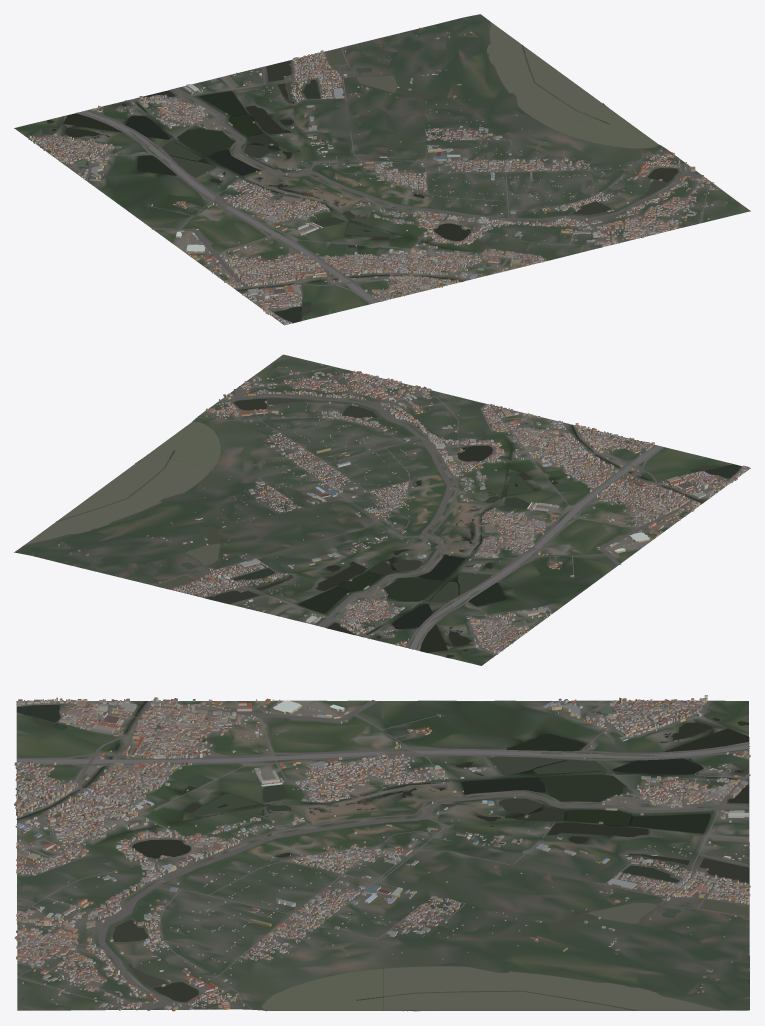
3 renders of one model, top to bottom at view 1: azimuth 30°, elevation 25°; view 2: azimuth 150°, elevation 25°; view 3: azimuth 270°, elevation 25°, orthographic. The views are drawn at different scales.
Visible parts, largest first — view 1: ground, buildings, water, roads; view 2: ground, buildings, water, roads; view 3: ground, buildings, water, roads.
Boxes of the visible parts, <box> form: ground: <box>14,14,750,325</box>; buildings: <box>28,27,727,324</box>; water: <box>47,23,678,322</box>; roads: <box>32,49,708,319</box>; ground: <box>14,354,750,665</box>; buildings: <box>57,364,750,654</box>; water: <box>26,395,741,657</box>; roads: <box>154,366,741,655</box>; ground: <box>16,700,749,1011</box>; buildings: <box>14,695,750,1011</box>; water: <box>16,701,749,1011</box>; roads: <box>16,700,750,1010</box>.
Bounding box in the file's own units: 2825 × 32.42 × 2821.
